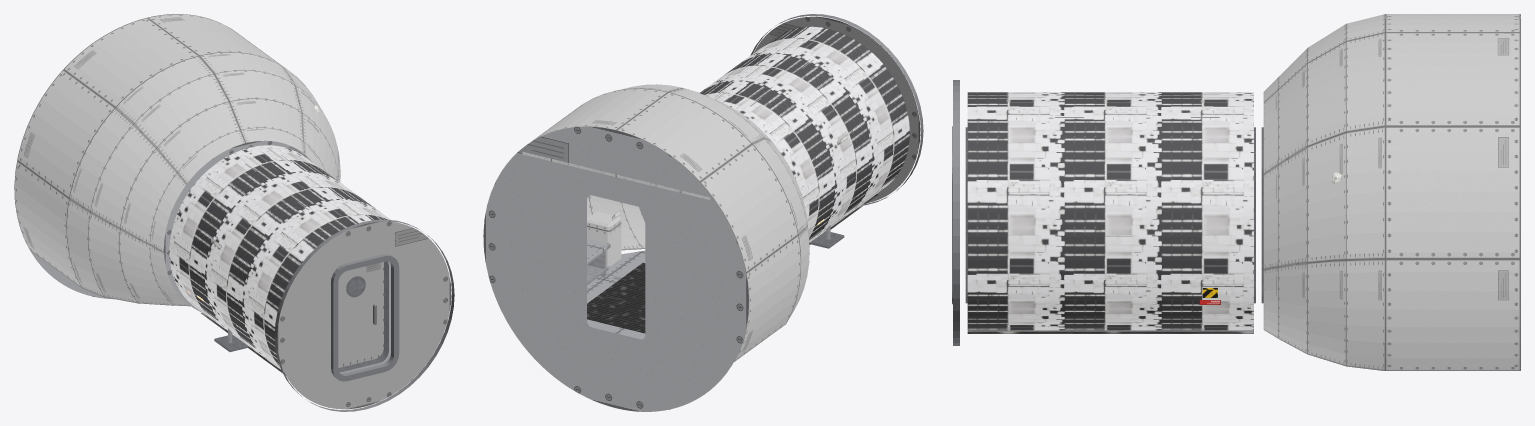
Rendered from airlock.glb.
The picture shows the model from 3 angles, left to right: view 1: azimuth 30°, elevation 25°; view 2: azimuth 150°, elevation 25°; view 3: azimuth 270°, elevation 25°; orthographic projection. The views are drawn at different scales.
Visible parts, largest first — view 1: HAB_ves, HAB_shell, AIRLOCK__ext_white.001, AIRLOCK__ext_frame.001, HATCH_OUTER__ext_white.001, HAB_struct, HAB_equip; view 2: HAB_ves, HAB_shell, AIRLOCK__ext_white.001, HAB_floor, HAB_struct, AIRLOCK__ext_frame.001, HAB_equip; view 3: HAB_ves, HAB_shell, HAB_struct, AIRLOCK__ext_frame.001, HAB_equip.
Part boxes in pixels (<box>): HAB_ves: <box>14,14,340,312</box>; HAB_shell: <box>169,145,390,371</box>; AIRLOCK__ext_white.001: <box>277,221,451,409</box>; AIRLOCK__ext_frame.001: <box>274,219,454,411</box>; HATCH_OUTER__ext_white.001: <box>338,262,383,367</box>; HAB_struct: <box>202,155,388,371</box>; HAB_equip: <box>187,105,390,375</box>; HAB_ves: <box>483,84,809,411</box>; HAB_shell: <box>587,26,909,338</box>; AIRLOCK__ext_white.001: <box>753,16,920,202</box>; HAB_floor: <box>587,263,645,333</box>; HAB_struct: <box>587,51,877,284</box>; AIRLOCK__ext_frame.001: <box>750,14,923,205</box>; HAB_equip: <box>587,134,878,264</box>; HAB_ves: <box>1263,14,1520,370</box>; HAB_shell: <box>967,92,1253,330</box>; HAB_struct: <box>965,94,1263,331</box>; AIRLOCK__ext_frame.001: <box>952,80,959,345</box>; HAB_equip: <box>967,172,1341,333</box>.
Size of the model in its own units: 4.1 by 4.1 by 5.86.
56 materials, 31 textured.
